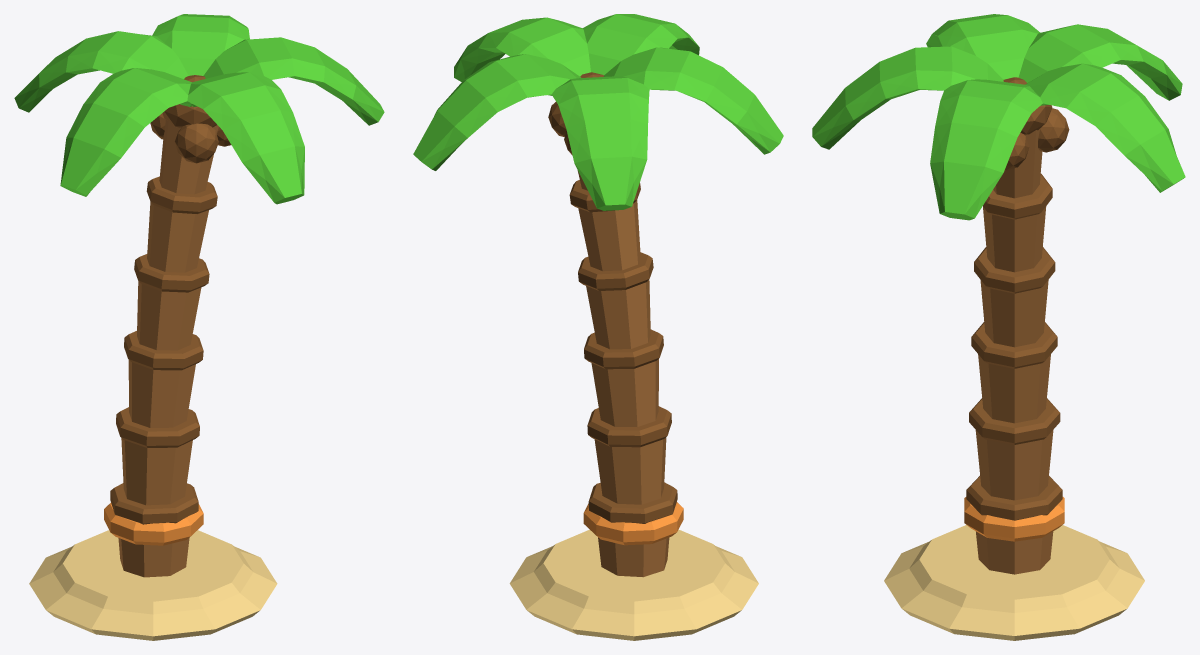
The model's file is Prop_pirate_harbor_PalmTree.glb.
3 renders of one model, left to right at view 1: azimuth 30°, elevation 25°; view 2: azimuth 150°, elevation 25°; view 3: azimuth 270°, elevation 25°, orthographic. The views are drawn at different scales.
Visible parts, largest first — view 1: Frond_5BD43A, Trunk_B5793F, Sand_F4D58A, Ring_8A5A2B, HarborOrange_FF9A3D; view 2: Frond_5BD43A, Sand_F4D58A, Trunk_B5793F, Ring_8A5A2B, HarborOrange_FF9A3D; view 3: Frond_5BD43A, Sand_F4D58A, Trunk_B5793F, Ring_8A5A2B, HarborOrange_FF9A3D.
Boxes of the visible parts, x1=… form: Frond_5BD43A: x1=14, y1=14, x2=384, y2=204; Trunk_B5793F: x1=118, y1=120, x2=218, y2=577; Sand_F4D58A: x1=29, y1=530, x2=277, y2=640; Ring_8A5A2B: x1=110, y1=75, x2=231, y2=524; HarborOrange_FF9A3D: x1=104, y1=503, x2=203, y2=545; Frond_5BD43A: x1=413, y1=14, x2=783, y2=210; Sand_F4D58A: x1=509, y1=529, x2=758, y2=640; Trunk_B5793F: x1=577, y1=170, x2=669, y2=577; Ring_8A5A2B: x1=548, y1=72, x2=677, y2=523; HarborOrange_FF9A3D: x1=583, y1=502, x2=683, y2=545; Frond_5BD43A: x1=812, y1=14, x2=1185, y2=220; Sand_F4D58A: x1=884, y1=525, x2=1144, y2=640; Trunk_B5793F: x1=975, y1=128, x2=1053, y2=574; Ring_8A5A2B: x1=966, y1=77, x2=1069, y2=520; HarborOrange_FF9A3D: x1=964, y1=497, x2=1064, y2=541.
Bounding box in the file's own units: 9.28 × 14.48 × 8.87.
